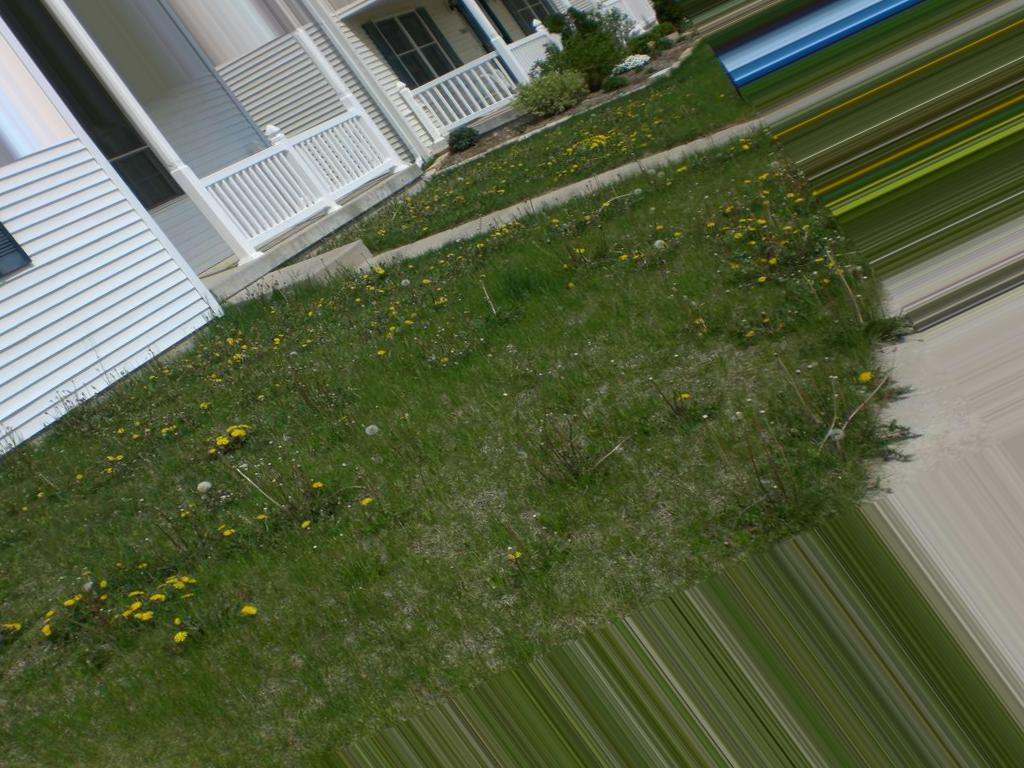patch: (451, 503, 569, 617), (639, 490, 676, 577), (693, 352, 772, 387)
